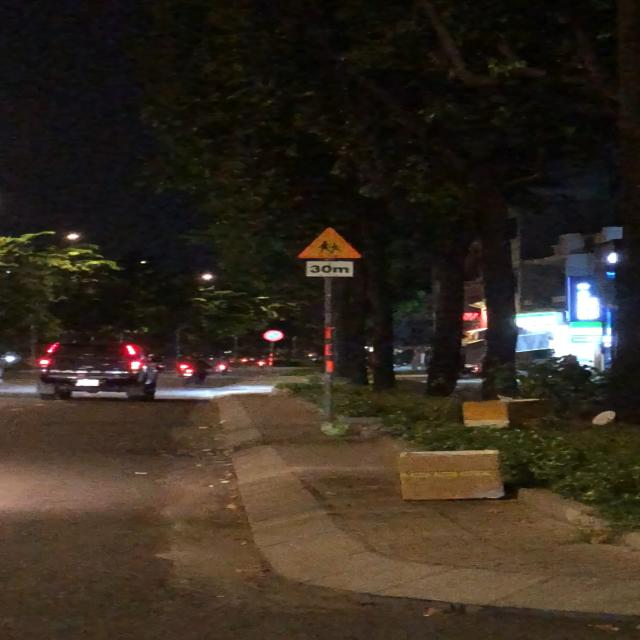Bien bao tre em: (296, 226, 362, 260)
